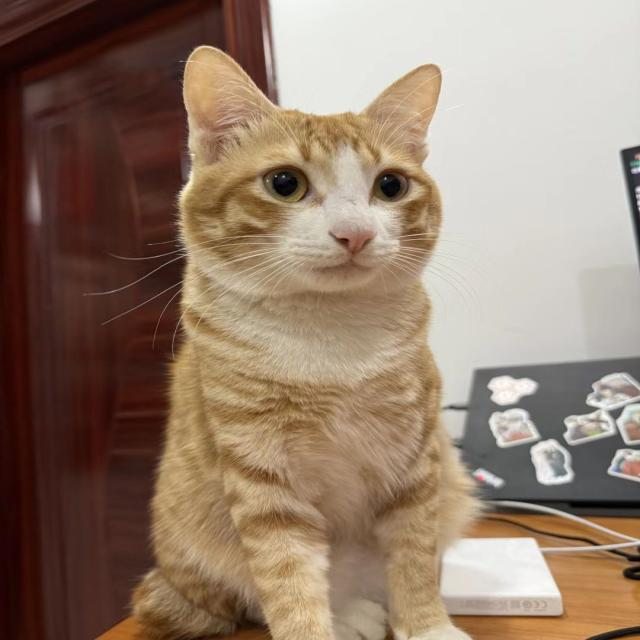sarman: (53, 37, 580, 634)
